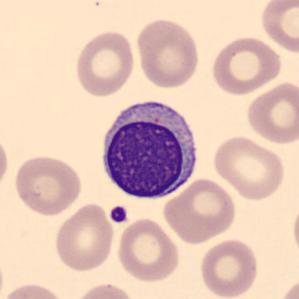Lymphocyte: (96, 94, 203, 202)
Platelets: (107, 203, 129, 225)
RBC: (161, 176, 238, 245), (210, 134, 288, 201), (134, 16, 202, 90), (12, 152, 84, 217), (52, 201, 115, 274), (209, 34, 283, 96), (115, 216, 181, 284), (72, 29, 137, 98), (198, 236, 260, 299), (243, 80, 298, 146), (257, 0, 299, 55), (71, 281, 139, 299), (0, 281, 68, 299), (0, 130, 11, 194), (290, 198, 299, 260), (278, 275, 298, 299)
